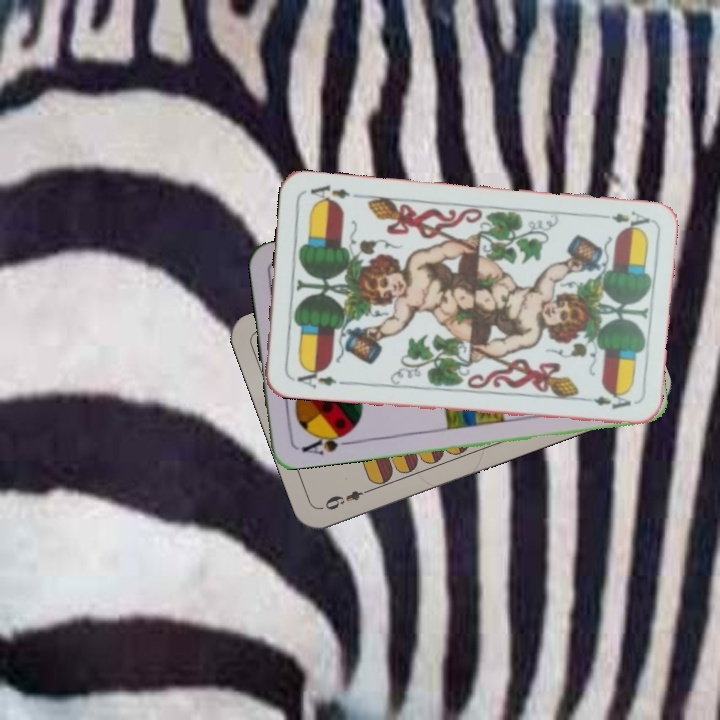E9: (318, 484, 375, 513)
EA: (288, 363, 347, 392), (593, 206, 652, 234)
SA: (298, 427, 354, 458)
